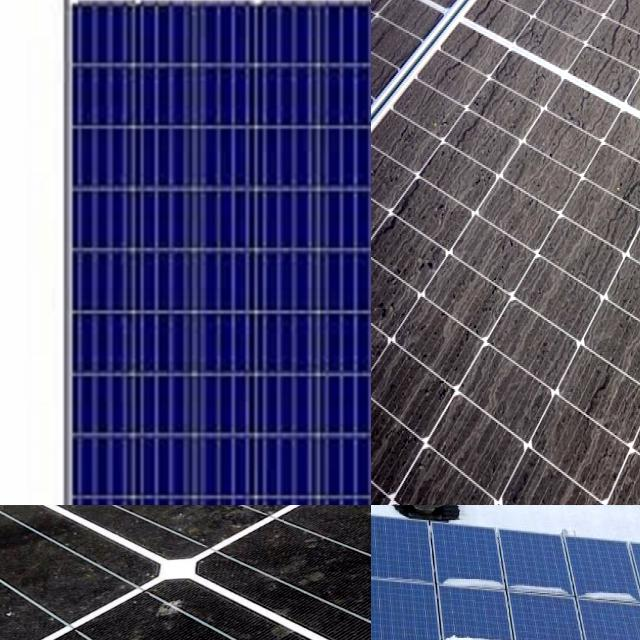bird: (86, 505, 191, 551)
crack: (61, 0, 371, 505)
dust: (416, 176, 594, 386), (474, 0, 635, 140), (376, 397, 569, 505), (371, 0, 450, 163)
panel: (440, 557, 506, 606), (508, 566, 574, 614), (579, 576, 640, 608), (516, 624, 613, 640), (371, 615, 414, 640), (456, 624, 518, 640)
